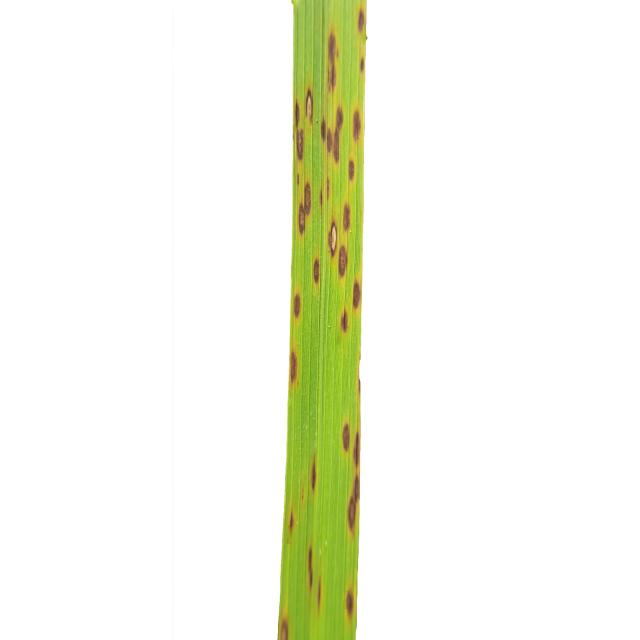Brown spot: (271, 0, 389, 638)
